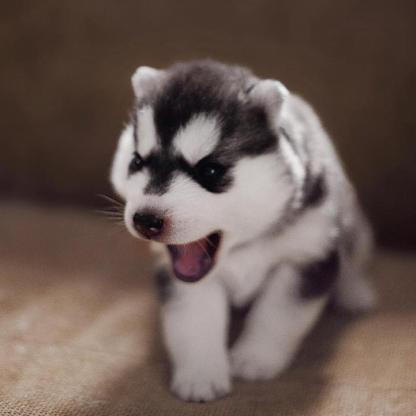husky: (108, 56, 384, 400)
